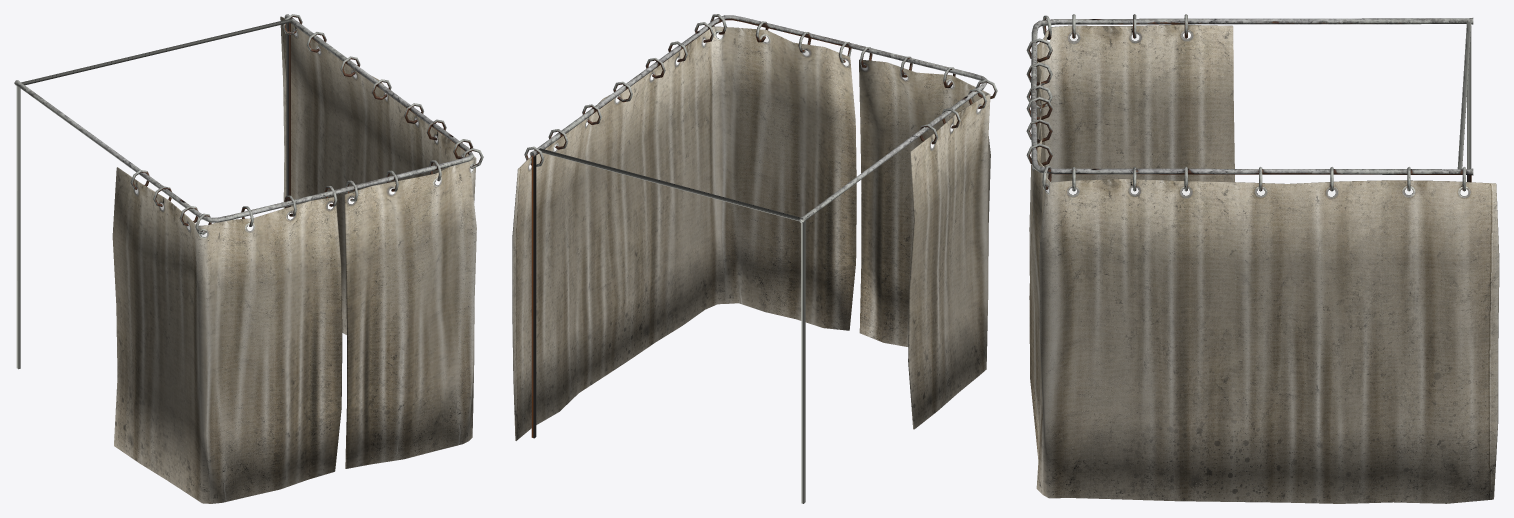
File: Middle Curtain.fbx
3 views of the same model, side by side, from view 1: azimuth 30°, elevation 25°; view 2: azimuth 150°, elevation 25°; view 3: azimuth 270°, elevation 25° (orthographic). The views are drawn at different scales.
Parts seen in each view (by area): view 1: Curtain.001; view 2: Curtain.001; view 3: Curtain.001.
Boxes of the visible parts, <box> form: Curtain.001: <box>14,14,483,503</box>; Curtain.001: <box>512,14,997,503</box>; Curtain.001: <box>1026,14,1499,503</box>.
Bounding box in the file's own units: 544 × 508 × 655.
